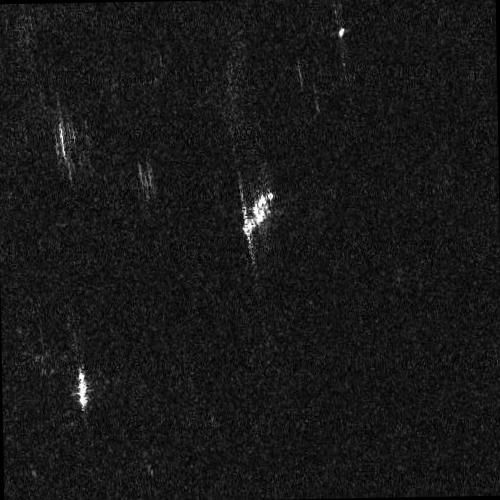ship: (241, 192, 273, 238), (78, 371, 89, 409), (338, 25, 346, 39)
